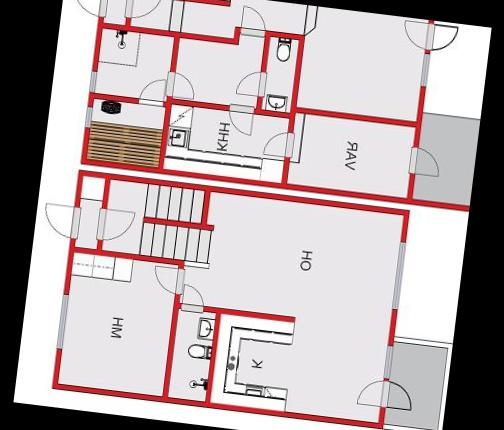door: (92, 203, 137, 247), (40, 200, 84, 242), (405, 142, 443, 180), (378, 376, 416, 414), (232, 66, 270, 102), (354, 373, 390, 411), (424, 20, 460, 56), (136, 73, 170, 111), (399, 17, 434, 53), (237, 4, 270, 42), (223, 102, 257, 138), (150, 263, 186, 297), (162, 68, 198, 102), (260, 128, 295, 162), (121, 0, 165, 24), (177, 282, 208, 316), (67, 0, 112, 20)
window: (387, 238, 410, 314), (54, 291, 72, 352), (414, 51, 434, 90), (380, 344, 397, 382), (85, 69, 99, 94), (82, 104, 94, 130)
